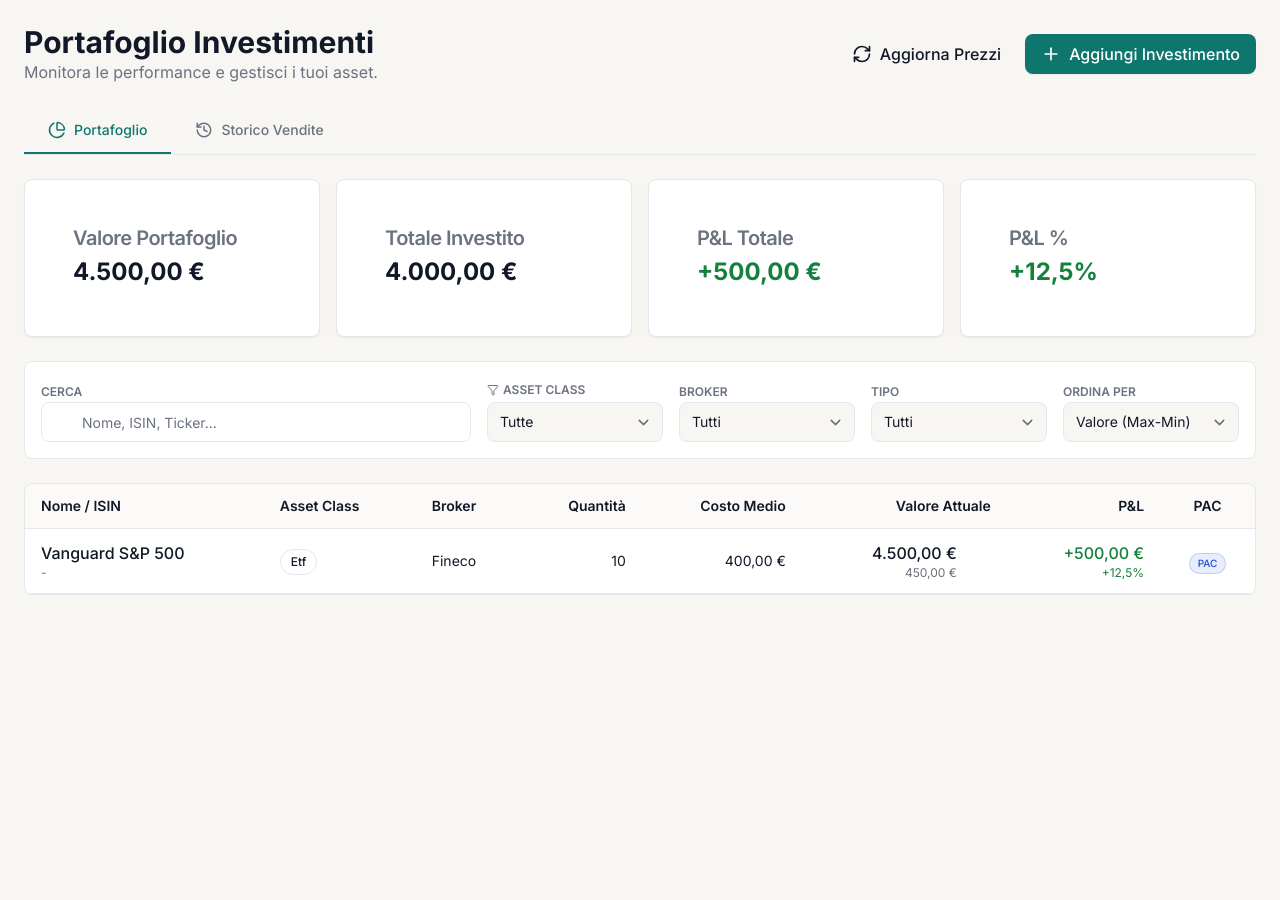
Test: InvestimentiPage › should open add modal when clicking add button
This screenshot has width=1280, height=900.
Step 1. Click the button "Aggiungi Investimento" → (1141, 54), box 1025,34 -> 1256,74
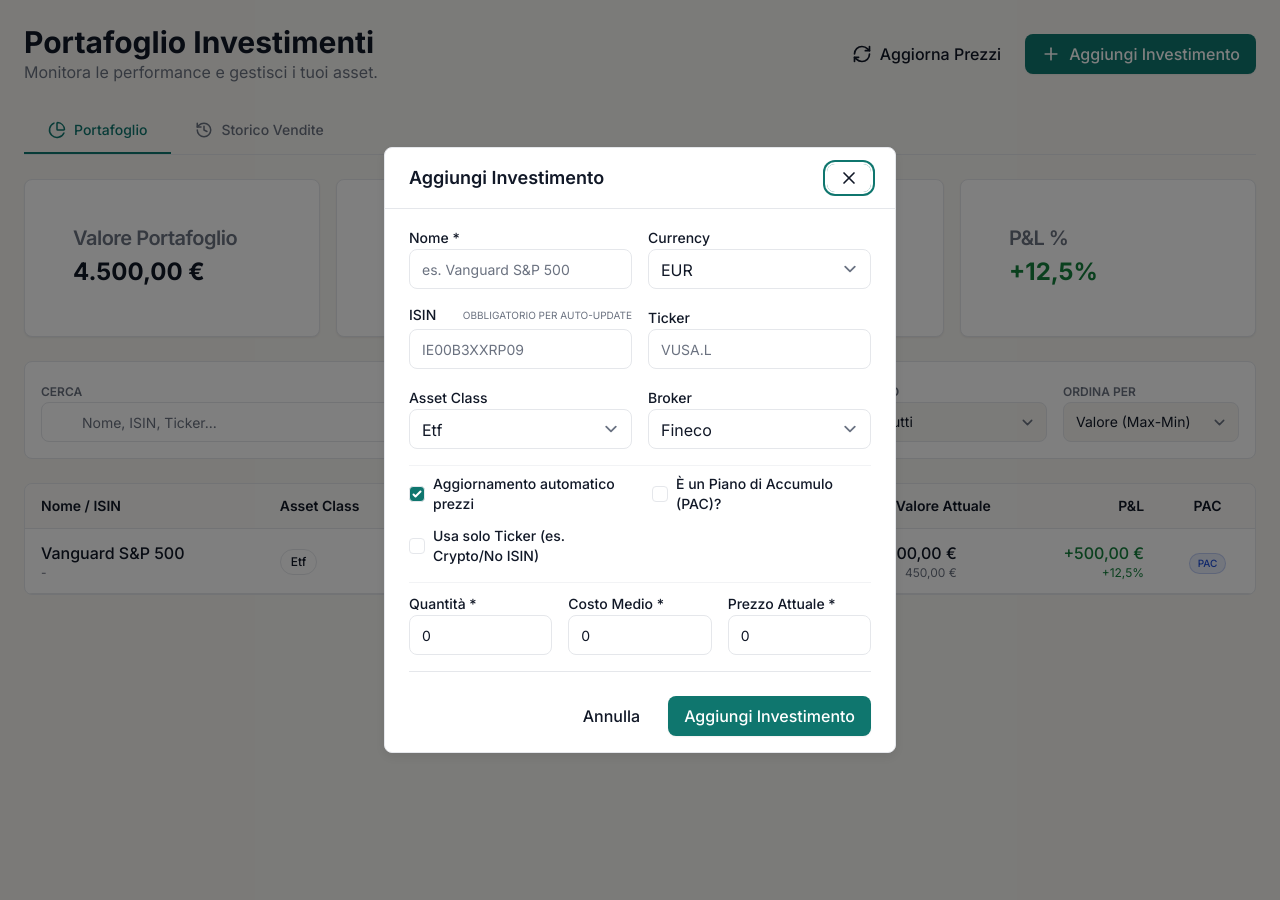
Expected: the heading "Aggiungi Investimento" is shown, 409,164 -> 604,192
